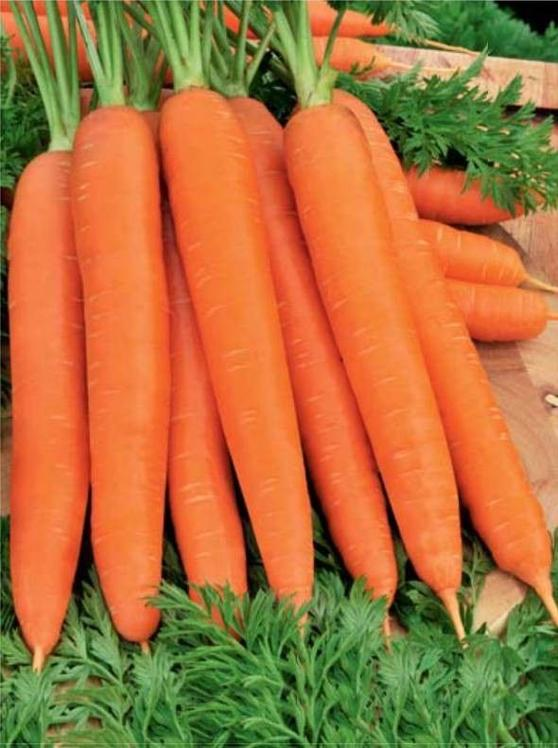carrot: (283, 96, 484, 627), (160, 77, 329, 634)
